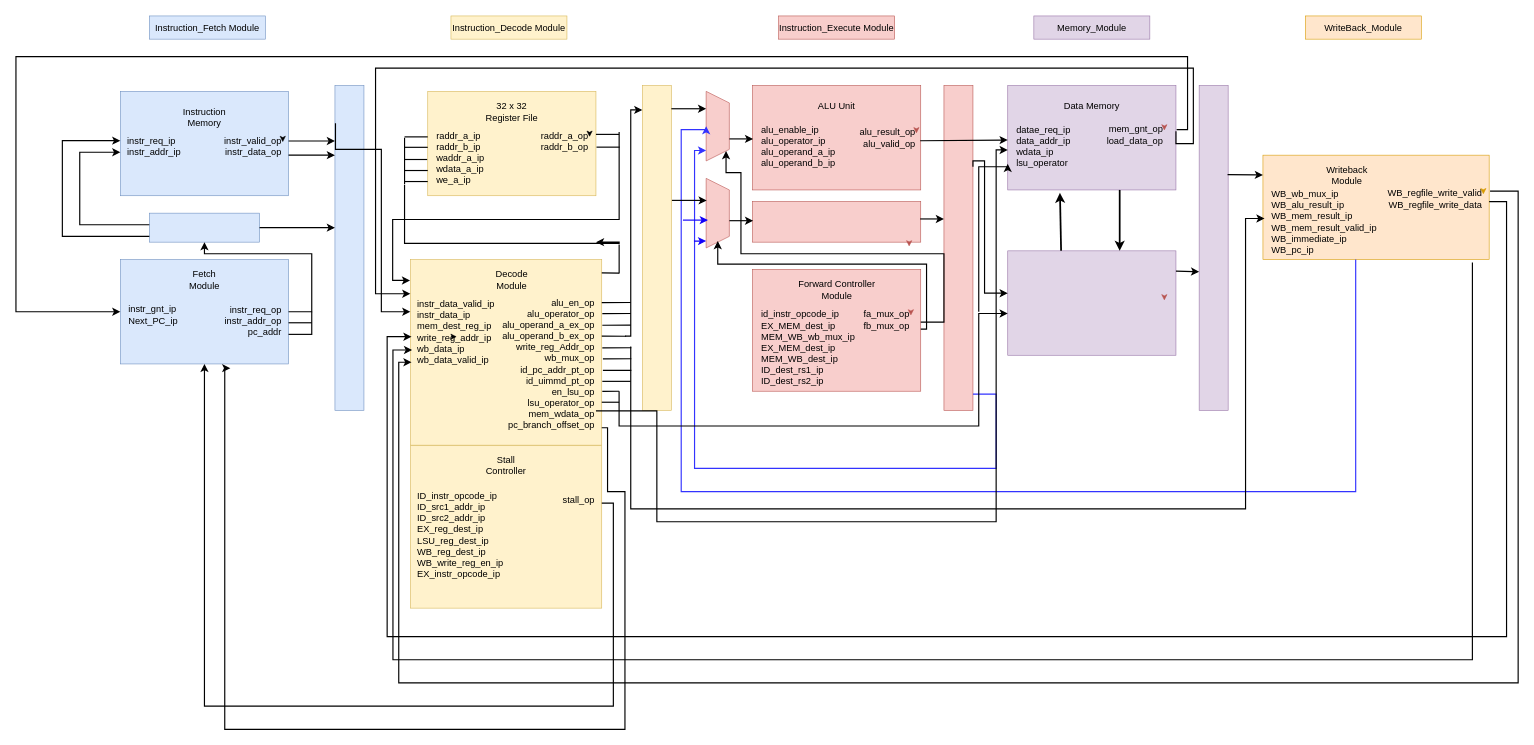
Image size: 1534x745. Some labels were removed from this diagram. The box of each missing label's shape, as (x1, y1, x2, y2) in pixels:
Comparator: (752, 201, 921, 242)
LSU Unit: (1007, 250, 1176, 355)
PC: (149, 213, 260, 242)
